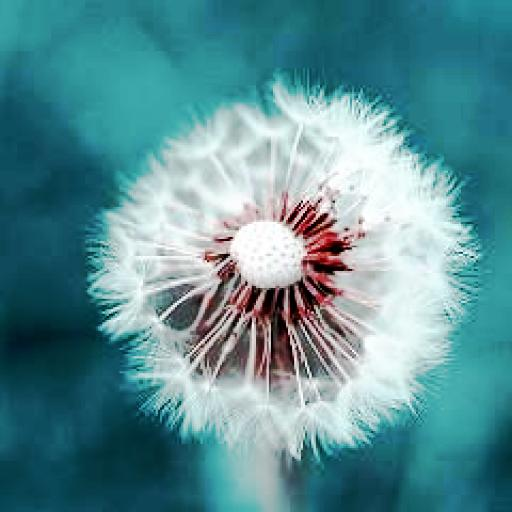dandelion: (94, 83, 478, 459)
